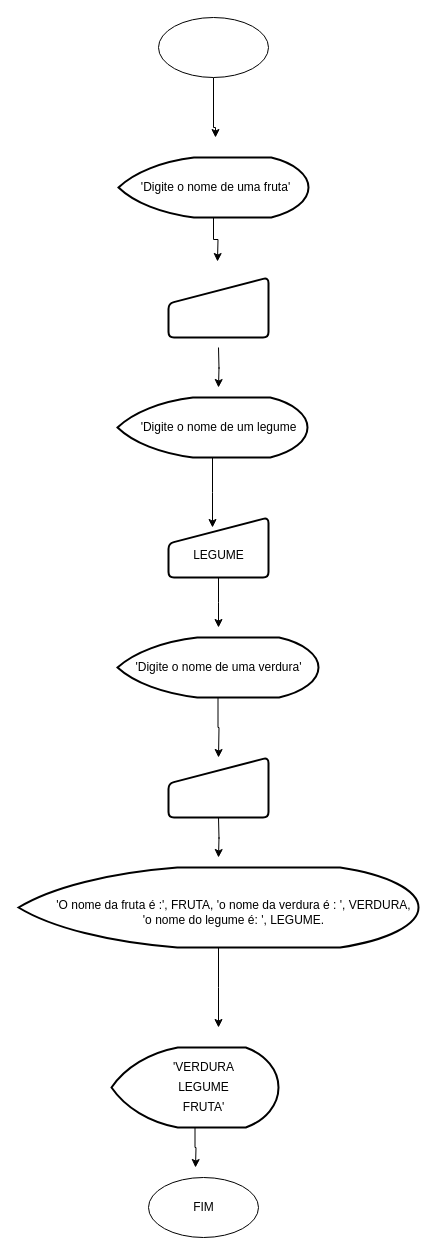
Image size: 436x1255. Some labels were removed from this diagram. Each missing label, with the box of its shape:
FRUTA: (167, 276, 269, 338)
Inicio: (158, 16, 268, 78)
VERDURA: (167, 756, 269, 818)
